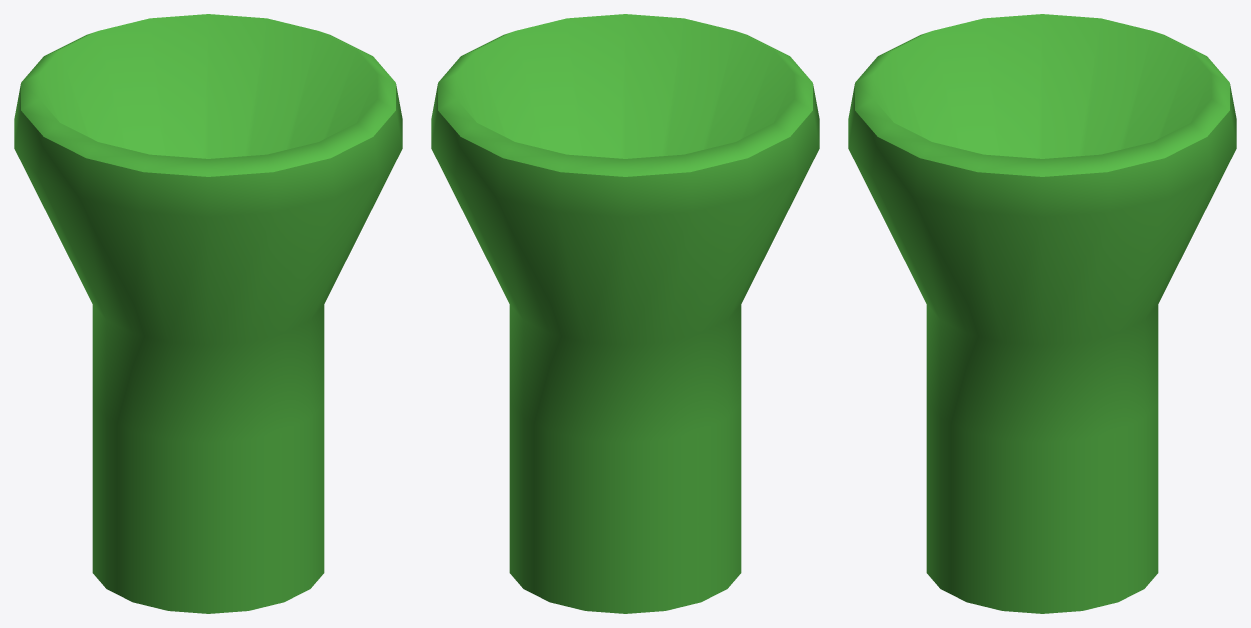
The model's file is water_despawn.FBX.
3 views of the same model, side by side, from view 1: azimuth 30°, elevation 25°; view 2: azimuth 150°, elevation 25°; view 3: azimuth 270°, elevation 25° (orthographic).
Visible parts, largest first — view 1: Cylinder001; view 2: Cylinder001; view 3: Cylinder001.
Part boxes in pixels (left/top/right/bottom): Cylinder001: left=14, top=14, right=402, bottom=613; Cylinder001: left=431, top=14, right=819, bottom=613; Cylinder001: left=848, top=14, right=1236, bottom=613.
Size of the model in its own units: 50.26 by 67.16 by 49.49.
Materials: 1 (1 with a texture image).
